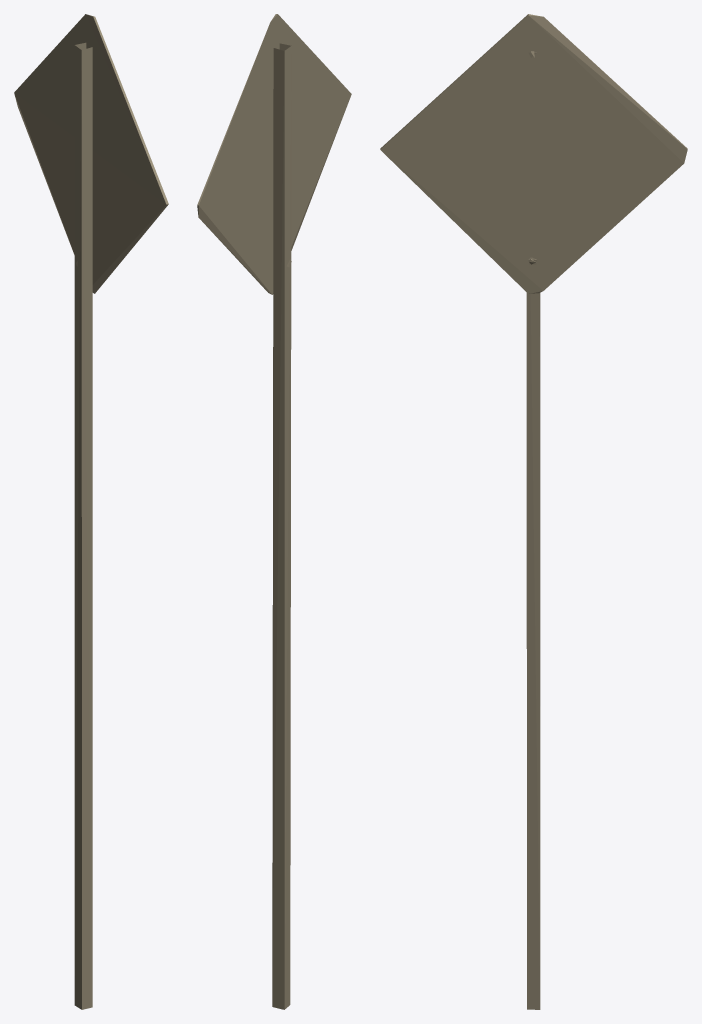
Rendered from sign-curve.lod2.glb.
3 views of the same model, side by side, from view 1: azimuth 30°, elevation 25°; view 2: azimuth 150°, elevation 25°; view 3: azimuth 270°, elevation 25° (orthographic).
Visible parts, largest first — view 1: povorot_LOW_POLY_sign_0; view 2: povorot_LOW_POLY_sign_0; view 3: povorot_LOW_POLY_sign_0.
Part boxes in pixels (x1=…): povorot_LOW_POLY_sign_0: x1=14, y1=14, x2=168, y2=1009; povorot_LOW_POLY_sign_0: x1=197, y1=14, x2=351, y2=1009; povorot_LOW_POLY_sign_0: x1=380, y1=14, x2=687, y2=1009.
Size of the model in its own units: 0.0498 by 2.6 by 0.7268.
